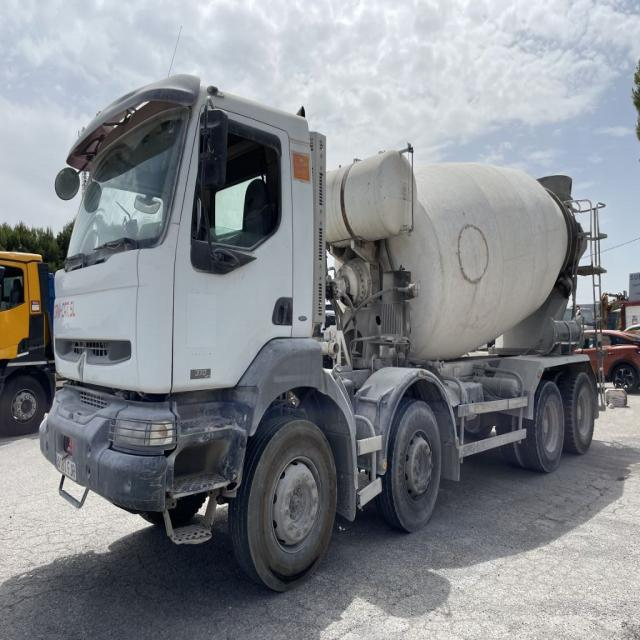Mixer Truck: (40, 72, 606, 590), (0, 249, 79, 437)
